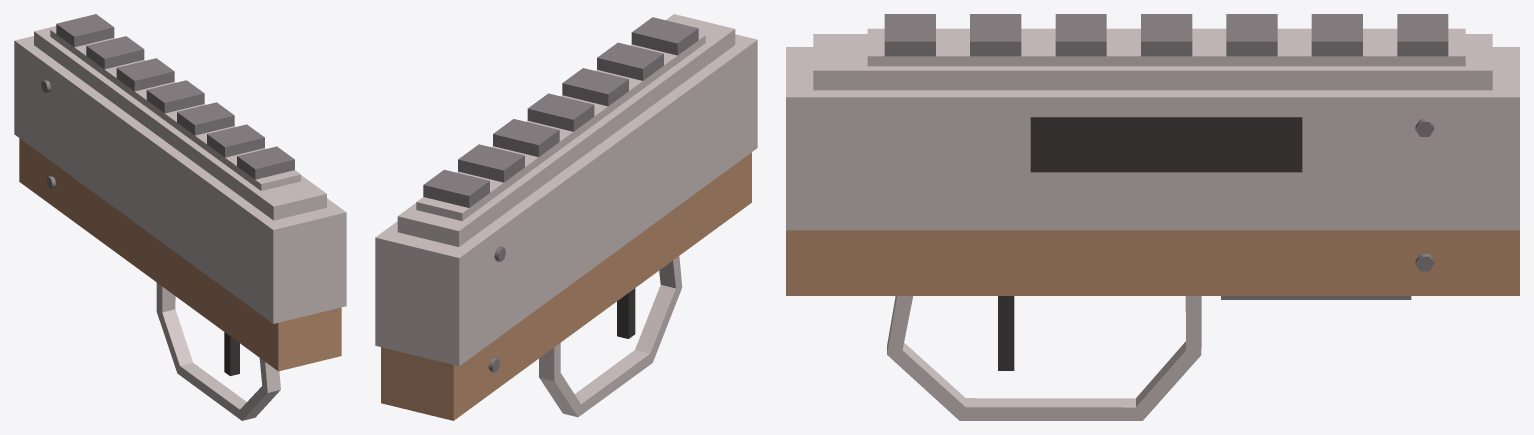
Rendered from bolt_sniper_receiver.glb.
3 views of the same model, side by side, from view 1: azimuth 30°, elevation 25°; view 2: azimuth 150°, elevation 25°; view 3: azimuth 270°, elevation 25° (orthographic). The views are drawn at different scales.
Visible parts, largest first — view 1: receiver; view 2: receiver; view 3: receiver.
Part boxes in pixels (x1=…): receiver: x1=14, y1=14, x2=346, y2=420; receiver: x1=375, y1=14, x2=757, y2=420; receiver: x1=786, y1=14, x2=1519, y2=420.
Size of the model in its own units: 0.0484 by 0.1578 by 0.27.
